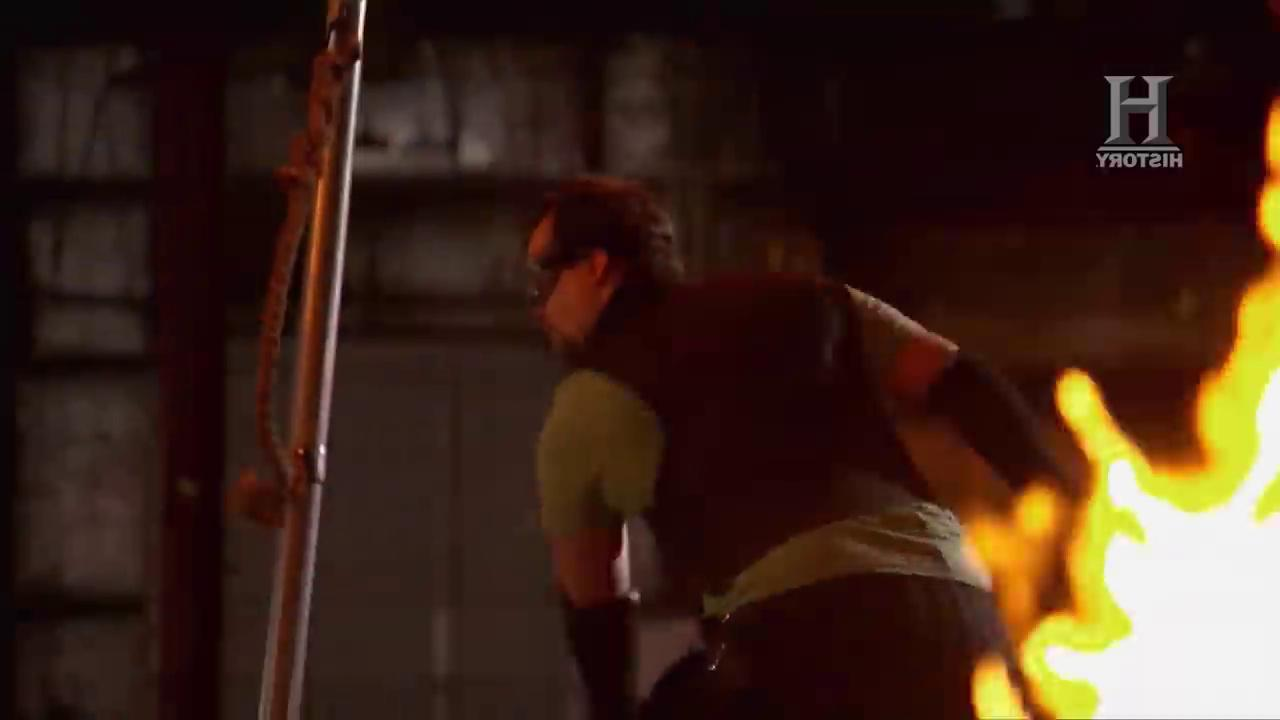Fire: (963, 102, 1279, 720)
